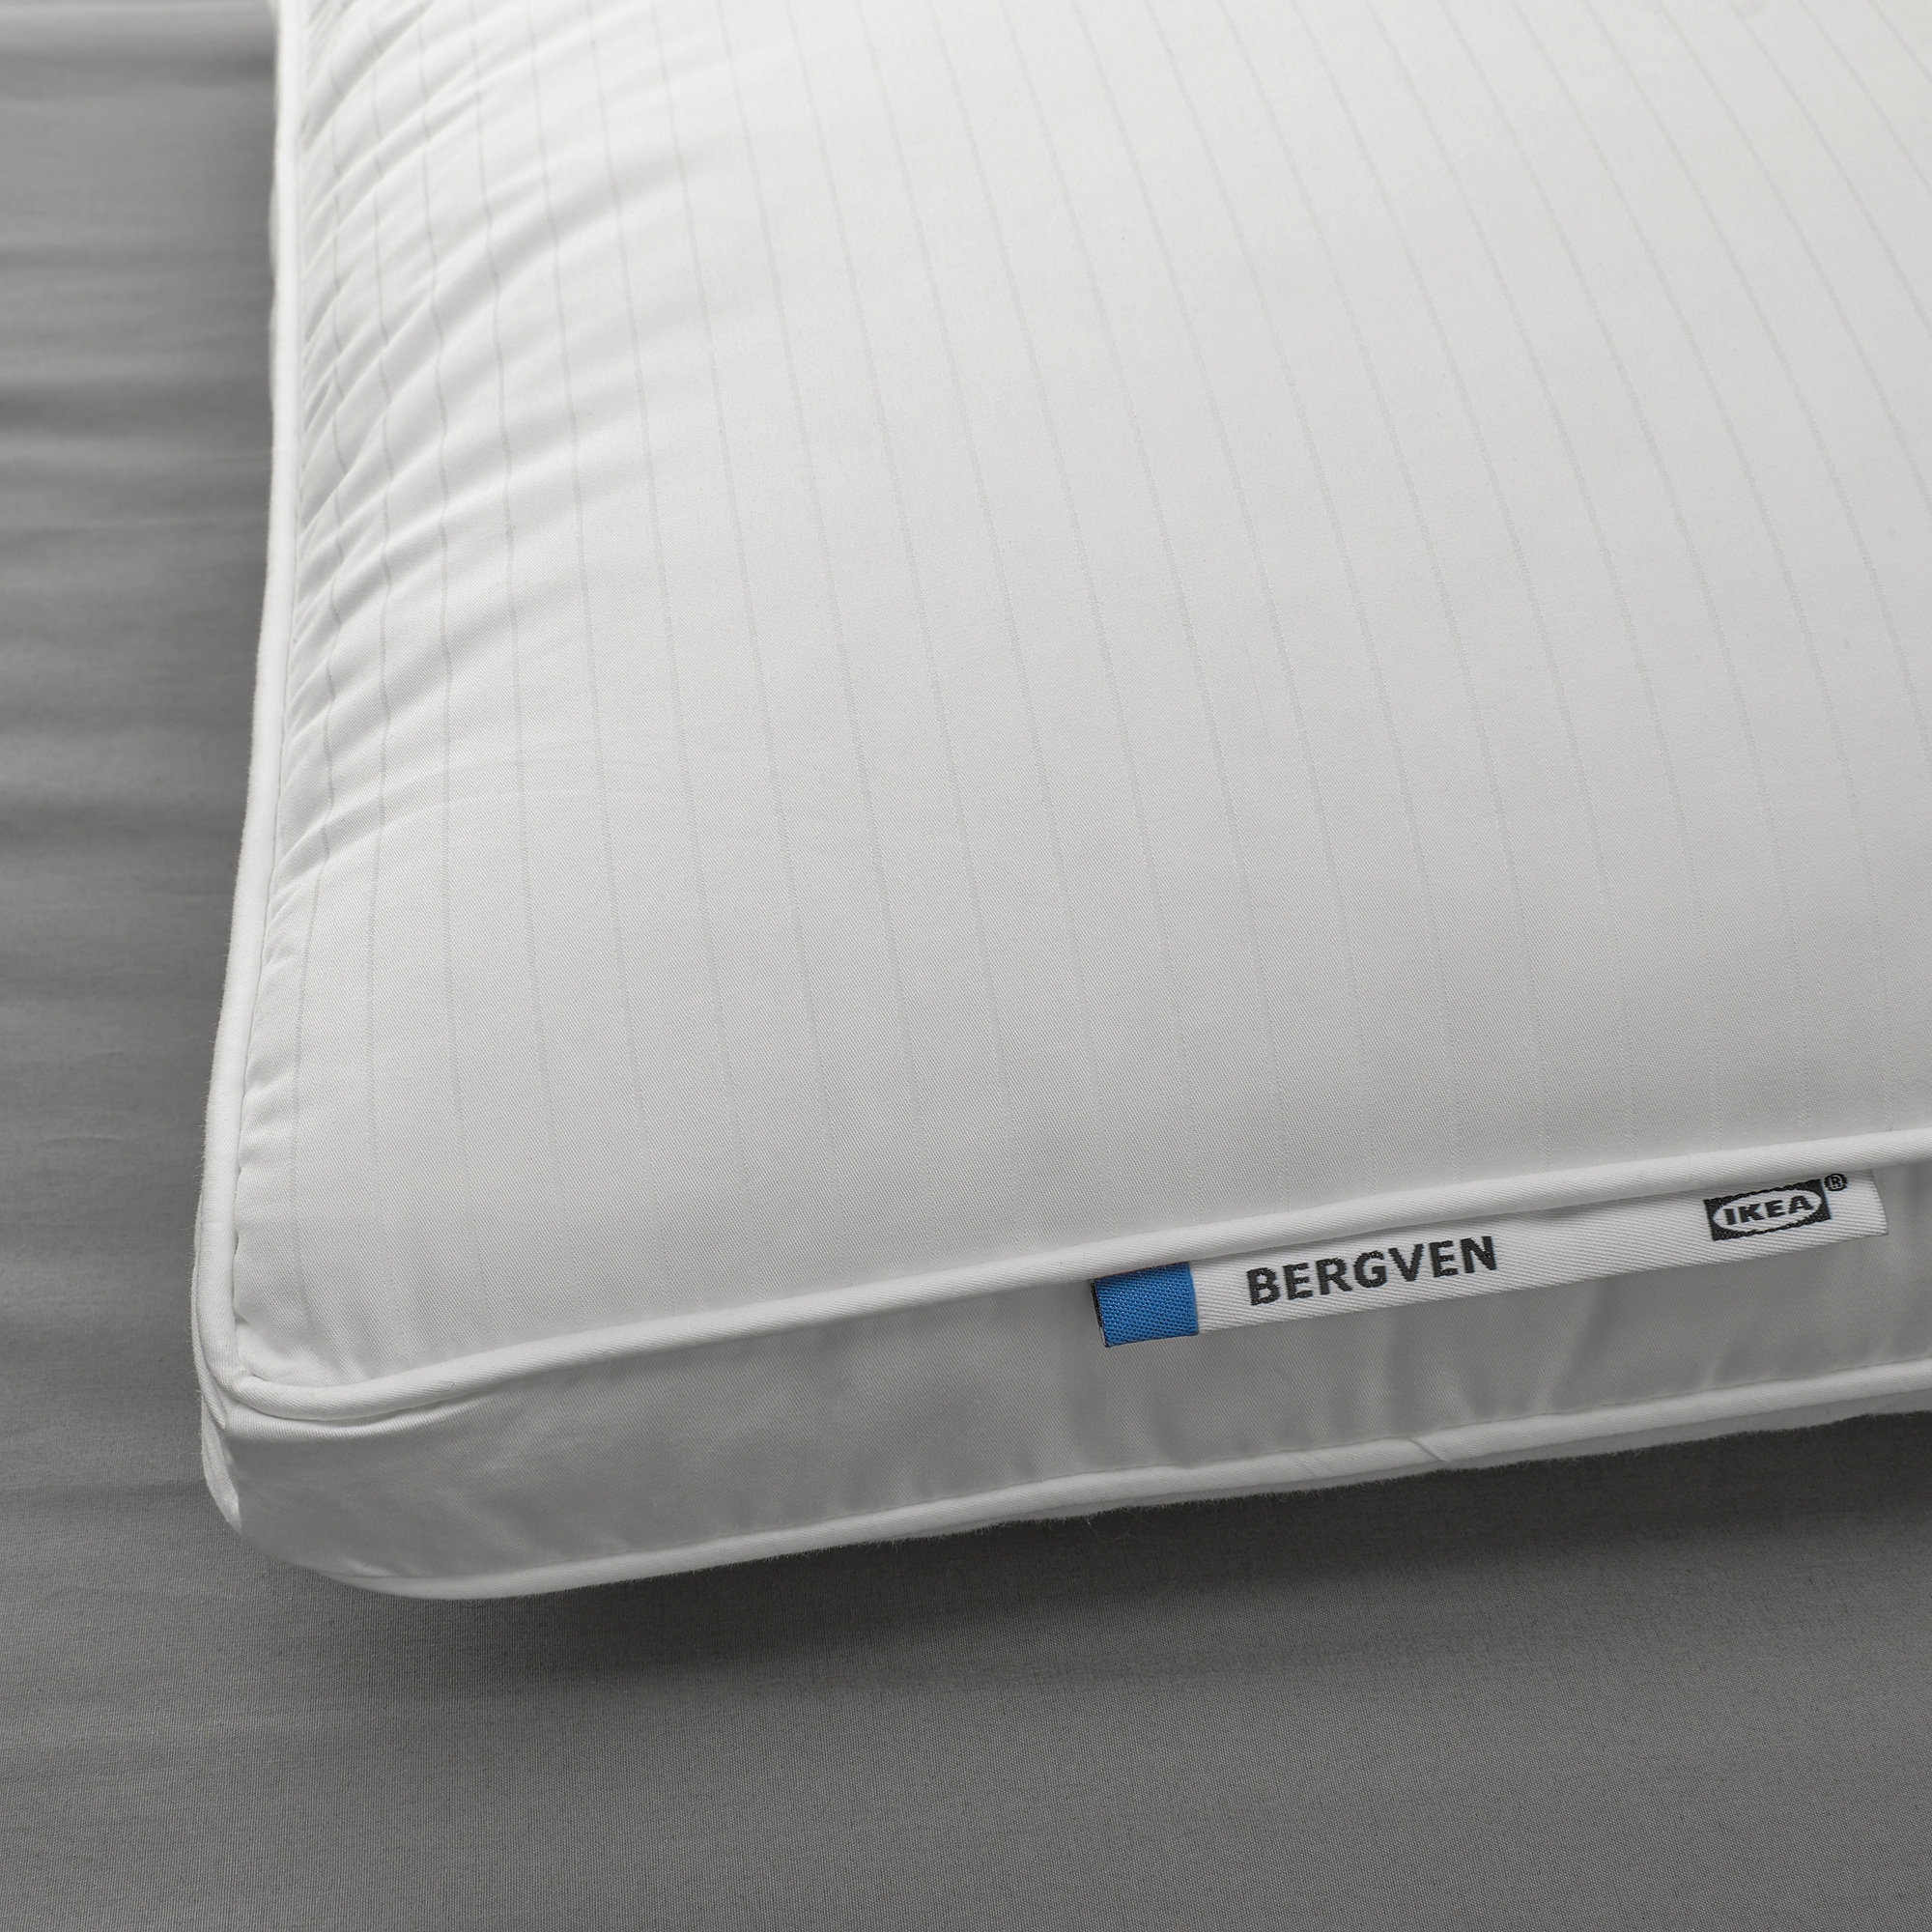bantal: (136, 2, 1932, 1610)
